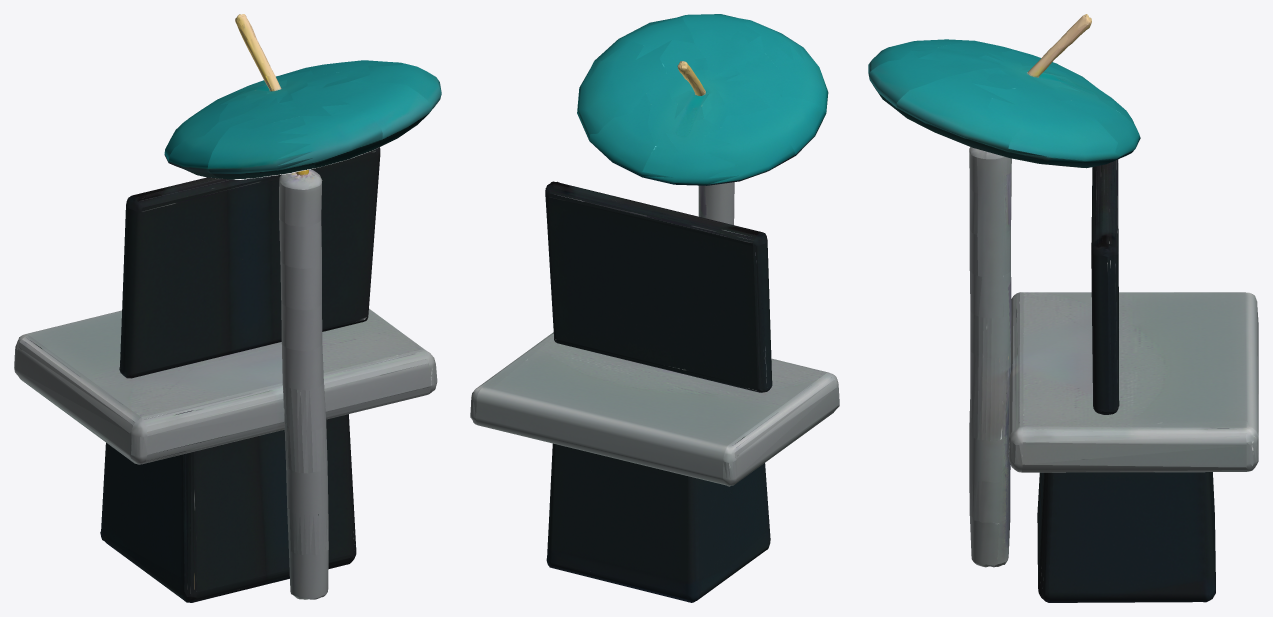
The model's file is orbital-control.glb.
3 renders of one model, left to right at view 1: azimuth 30°, elevation 25°; view 2: azimuth 150°, elevation 25°; view 3: azimuth 270°, elevation 25°, orthographic. The views are drawn at different scales.
Bounding box in the file's own units: 0.5742 × 0.998 × 0.6465.
1 material, 1 textured.
